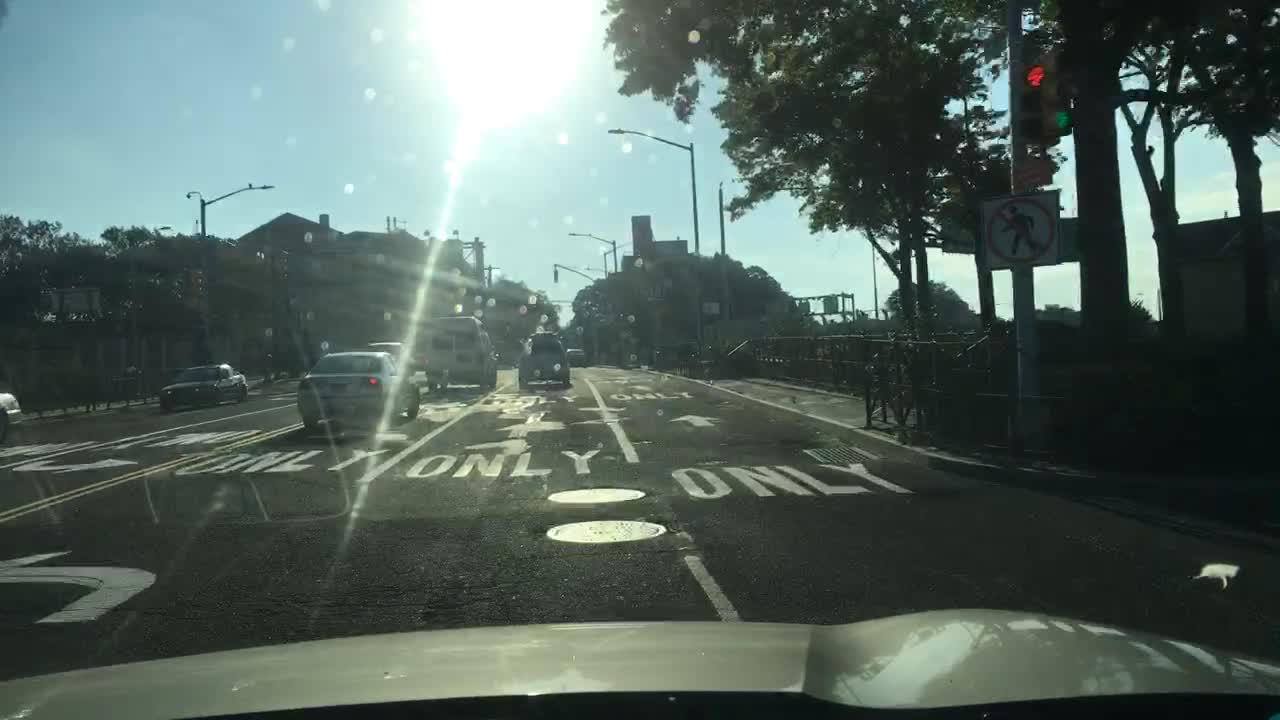car: (297, 351, 420, 427), (419, 316, 497, 391), (159, 360, 249, 412), (517, 330, 571, 389), (364, 340, 418, 374), (0, 390, 27, 445), (566, 346, 588, 368)
traffic light: (1045, 50, 1082, 134), (1017, 48, 1043, 132), (553, 268, 557, 282), (487, 271, 491, 283)
traffic sign: (980, 188, 1058, 268), (939, 214, 978, 255), (1058, 217, 1083, 263), (822, 295, 836, 313), (701, 303, 719, 315), (797, 302, 810, 314)
